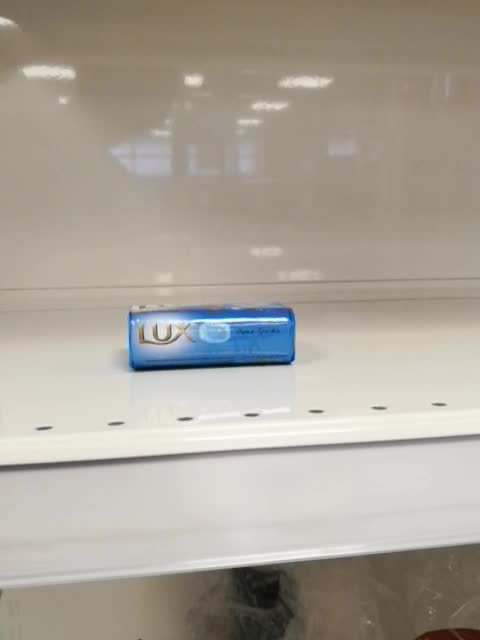soap: (127, 298, 296, 373)
